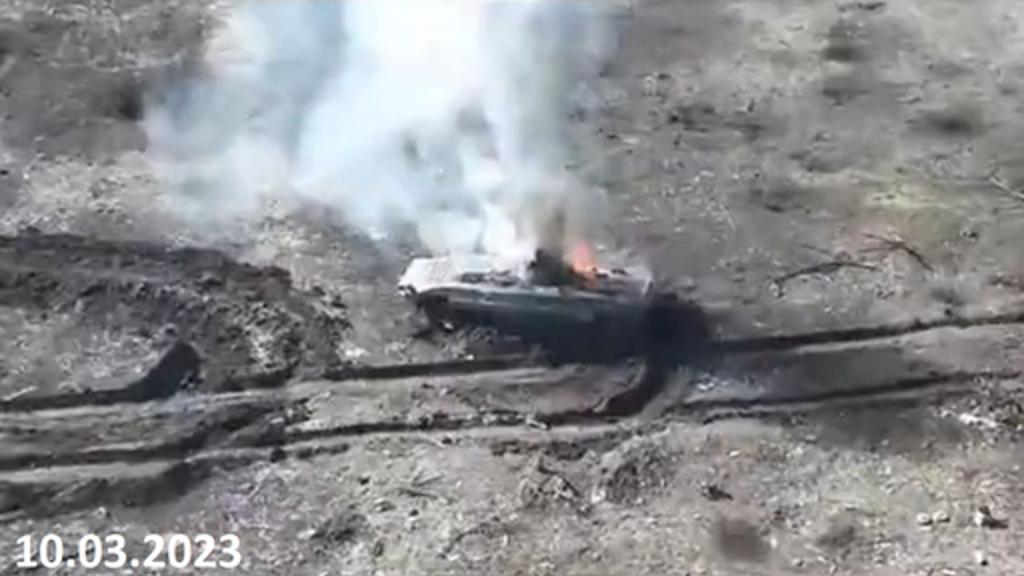APC-IFV: (394, 234, 656, 344)
